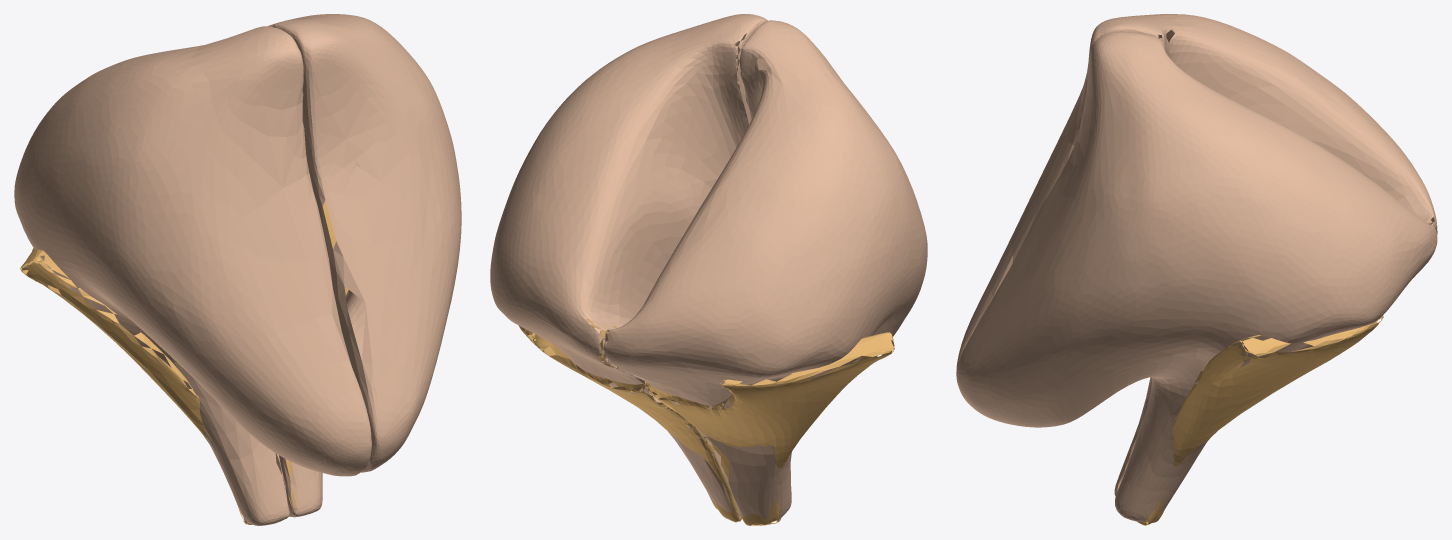
File: ipotalamo.glb
3 renders of one model, left to right at view 1: azimuth 30°, elevation 25°; view 2: azimuth 150°, elevation 25°; view 3: azimuth 270°, elevation 25°, orthographic. The views are drawn at different scales.
Visible parts, largest first — view 1: hypothalamus, intermediate hypothalamic region; view 2: hypothalamus, intermediate hypothalamic region; view 3: hypothalamus, intermediate hypothalamic region.
Boxes of the visible parts, x1,y1,x2,y2 form: hypothalamus: [14, 14, 461, 525]; intermediate hypothalamic region: [20, 200, 348, 524]; hypothalamus: [490, 14, 927, 521]; intermediate hypothalamic region: [518, 318, 894, 525]; hypothalamus: [956, 14, 1437, 522]; intermediate hypothalamic region: [1137, 315, 1383, 525].
Bounding box in the file's own units: 16.94 × 19.93 × 17.88.
